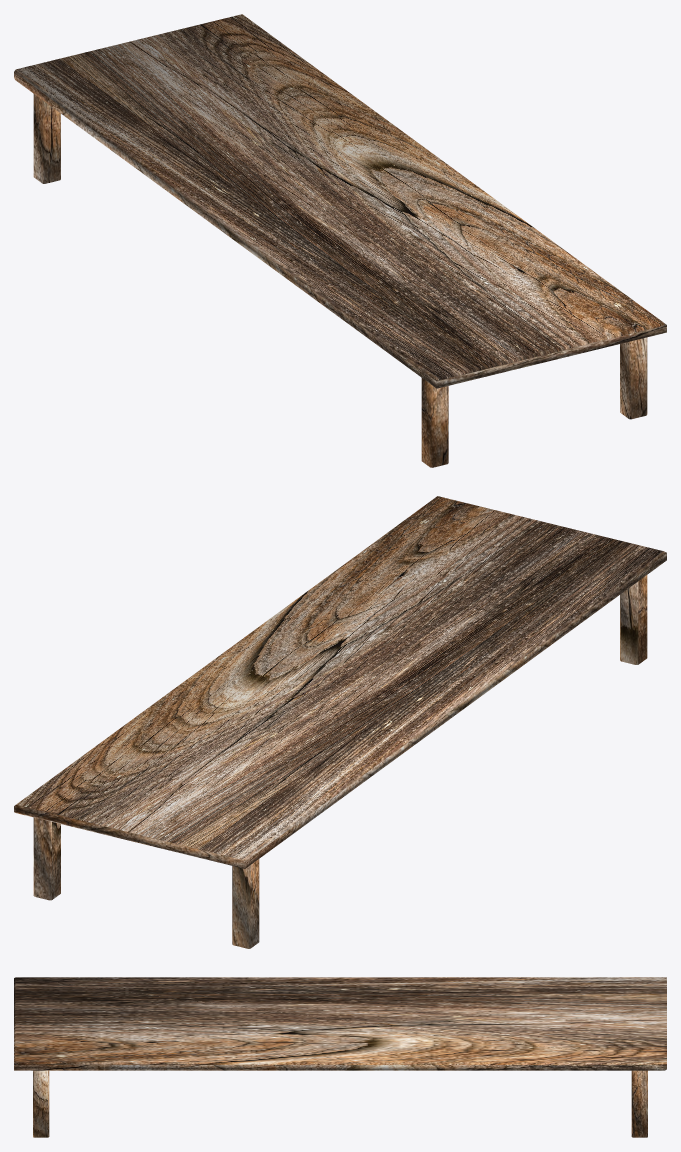
The model's file is Mesa.glb.
The picture shows the model from 3 angles, top to bottom: view 1: azimuth 30°, elevation 25°; view 2: azimuth 150°, elevation 25°; view 3: azimuth 270°, elevation 25°; orthographic projection. The views are drawn at different scales.
Parts seen in each view (by area): view 1: Mesa; view 2: Mesa; view 3: Mesa.
Boxes of the visible parts, <box> form: Mesa: <box>14,14,666,467</box>; Mesa: <box>14,496,666,948</box>; Mesa: <box>14,977,666,1137</box>.
Size of the model in its own units: 8.58 by 3.54 by 27.28.
1 material, 1 textured.
